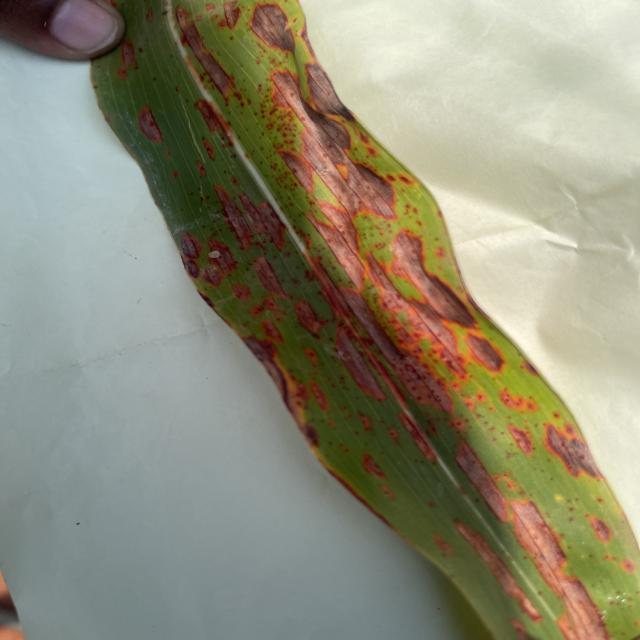millet_rust: (89, 0, 640, 640)
